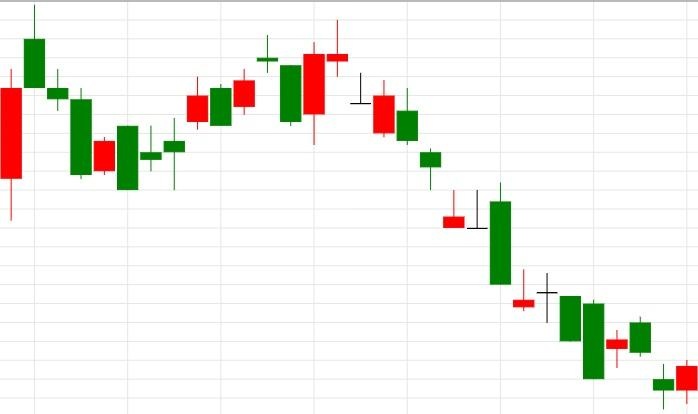evening_star_fall: (116, 35, 302, 191)
